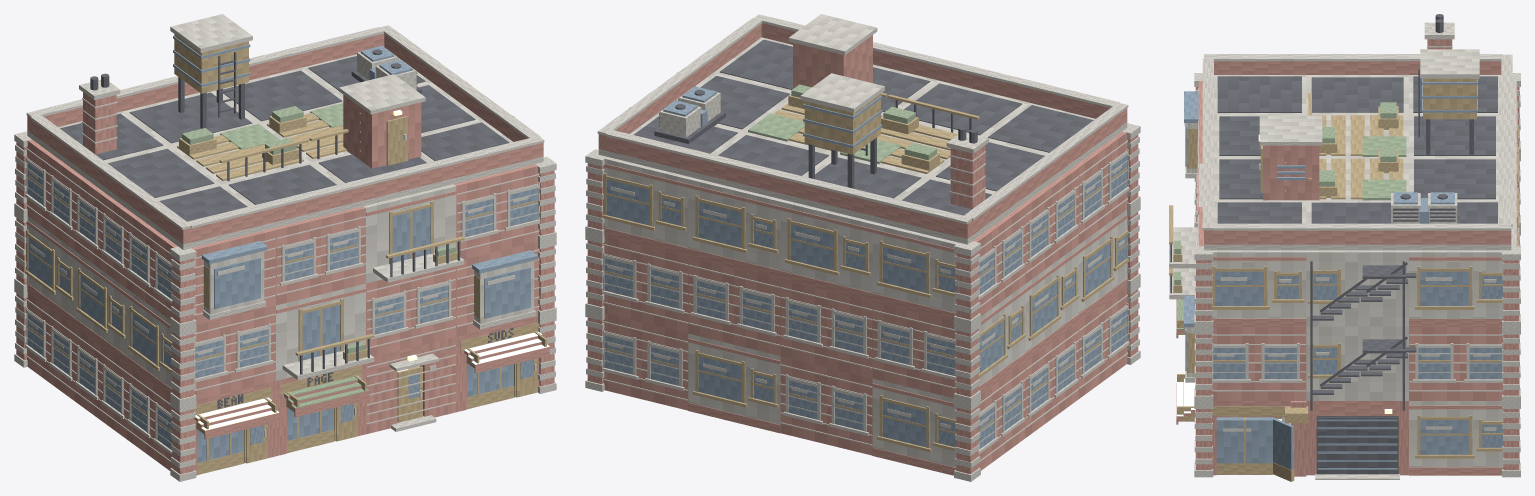
File: block.glb
3 renders of one model, left to right at view 1: azimuth 30°, elevation 25°; view 2: azimuth 150°, elevation 25°; view 3: azimuth 270°, elevation 25°, orthographic. The views are drawn at different scales.
Visible parts, largest first — view 1: 090-apartment-entrance-bay/0, 118-balcony-bay/0, 117-window-bay-brick/0, 103-balcony-bay/0, 119-window-bay-brick/0, 104-window-bay-brick/0, 102-window-bay-brick/0, 156-roof-access-hut/0, 147-rooftop-garden-bay/1, 152-flat-roof-slab-parapet/1, 151-flat-roof-slab-parapet/1, 146-flat-roof-slab-parapet/1 (+117 smaller); view 2: 111-window-bay-brick/0, 096-window-bay-brick/0, 110-window-bay-brick/0, 098-window-bay-brick/0, 112-window-bay-brick/0, 124-window-bay-render/0, 125-window-bay-render/0, 109-window-bay-brick/0, 097-window-bay-render/0, 123-window-bay-render/0, 126-window-bay-render/0, 143-flat-roof-slab-parapet/1 (+121 smaller); view 3: 121-fire-escape-stair-bay/0, 107-fire-escape-stair-bay/0, 093-garage-bay/shutter/ink, 106-window-bay-brick/0, 108-window-bay-brick/0, 092-shopfront-corner-bay/2, 122-window-bay-render/0, 120-window-bay-render/0, 094-window-bay-render/0, 146-flat-roof-slab-parapet/1, 142-roof-corner/1, 152-flat-roof-slab-parapet/1 (+81 smaller).
Boxes of the visible parts, box(x1,y1,x2,y2) form: 090-apartment-entrance-bay/0: box(366, 337, 456, 434); 118-balcony-bay/0: box(364, 184, 464, 283); 117-window-bay-brick/0: box(274, 206, 365, 305); 103-balcony-bay/0: box(276, 283, 374, 380); 119-window-bay-brick/0: box(454, 164, 539, 259); 104-window-bay-brick/0: box(366, 266, 456, 356); 102-window-bay-brick/0: box(194, 305, 275, 400); 156-roof-access-hut/0: box(343, 95, 421, 168); 147-rooftop-garden-bay/1: box(177, 135, 309, 180); 152-flat-roof-slab-parapet/1: box(223, 70, 342, 121); 151-flat-roof-slab-parapet/1: box(129, 92, 252, 143); 146-flat-roof-slab-parapet/1: box(108, 148, 214, 197); 111-window-bay-brick/0: box(688, 256, 780, 355); 096-window-bay-brick/0: box(780, 356, 872, 455); 110-window-bay-brick/0: box(780, 279, 872, 378); 098-window-bay-brick/0: box(603, 313, 688, 410); 112-window-bay-brick/0: box(603, 236, 688, 333); 124-window-bay-render/0: box(780, 200, 874, 292); 125-window-bay-render/0: box(688, 177, 782, 270); 109-window-bay-brick/0: box(872, 301, 956, 398); 097-window-bay-render/0: box(688, 333, 780, 432); 123-window-bay-render/0: box(872, 222, 958, 313); 126-window-bay-render/0: box(603, 157, 690, 247); 143-flat-roof-slab-parapet/1: box(904, 83, 1021, 135); 121-fire-escape-stair-bay/0: box(1306, 250, 1408, 326); 107-fire-escape-stair-bay/0: box(1306, 326, 1408, 400); 093-garage-bay/shutter/ink: box(1316, 416, 1398, 474); 106-window-bay-brick/0: box(1212, 327, 1306, 400); 108-window-bay-brick/0: box(1409, 327, 1503, 400); 092-shopfront-corner-bay/2: box(1216, 417, 1293, 469); 122-window-bay-render/0: box(1409, 250, 1503, 318); 120-window-bay-render/0: box(1212, 250, 1306, 318); 094-window-bay-render/0: box(1409, 401, 1503, 467); 146-flat-roof-slab-parapet/1: box(1311, 77, 1403, 112); 142-roof-corner/1: box(1217, 76, 1301, 112); 152-flat-roof-slab-parapet/1: box(1414, 159, 1495, 199).
Bounding box in the file's own units: 17.62 × 13.42 × 13.73.
Materials: 8 (8 with a texture image).
